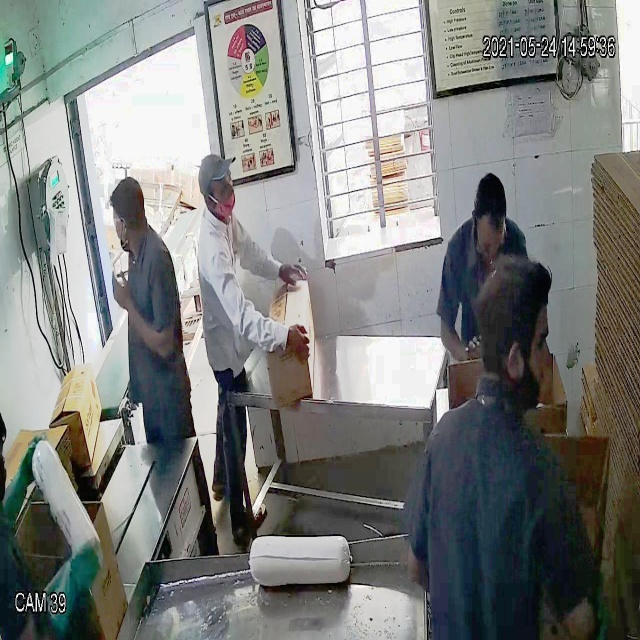Sin_gafas: (205, 175, 236, 201)
